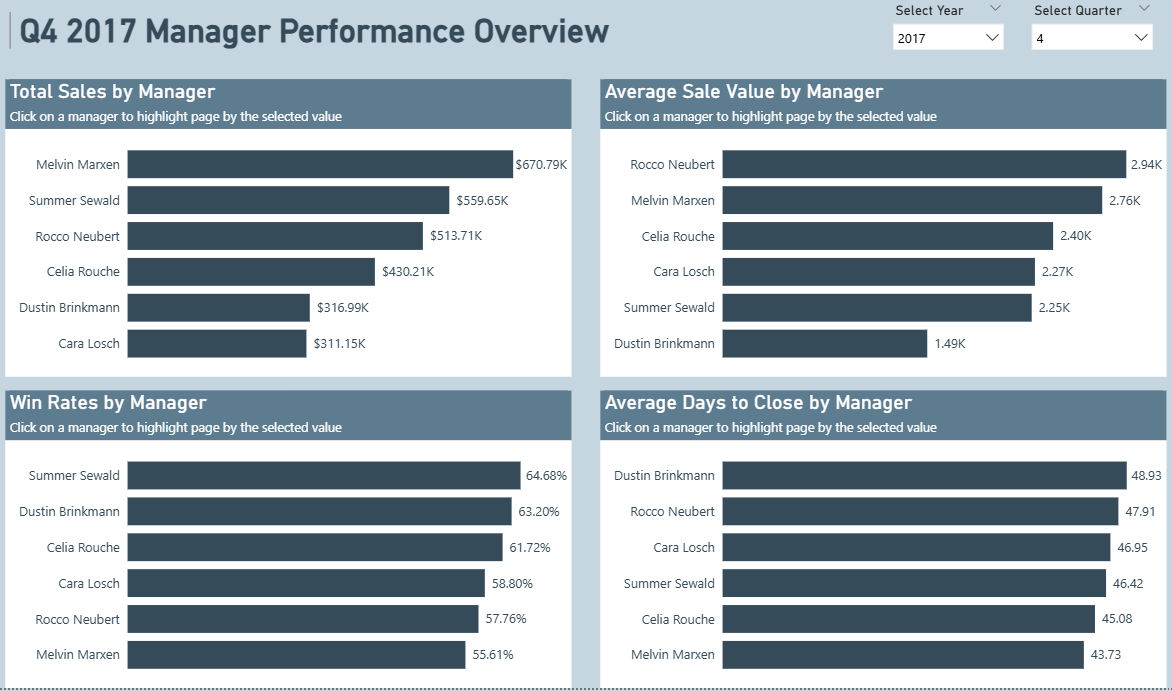

The dashboard page shown, as its layout file describes it:
{"tool":"powerbi","page":{"name":"Manager Performance","canvas":[1350,800],"ordinal":4},"visuals":[{"type":"slicer","fields":{"Values":["calendar.year"]},"box":[1017.1,11.4,147.1,74.3],"z":0},{"type":"slicer","fields":{"Values":["calendar.quarter"]},"box":[1175.1,11.7,158.6,75.7],"z":1000},{"type":"clusteredBarChart","title":"Total Sales by Manager","fields":{"Category":["sales_agents.manager"],"Y":["Sum(sales_pipeline.close_value)"]},"box":[12.9,104.3,647.1,340],"z":2000},{"type":"clusteredBarChart","title":"Average Sale Value by Manager","fields":{"Category":["sales_agents.manager"],"Y":["sales_pipeline.Avg Sale Value"]},"box":[692.9,104.3,647.1,340],"z":3000},{"type":"clusteredBarChart","title":"Win Rates by Manager","fields":{"Category":["sales_agents.manager"],"Y":["sales_pipeline.Win Rate"]},"box":[12.9,460,647.1,340],"z":4000},{"type":"clusteredBarChart","title":"Average Days to Close by Manager","fields":{"Category":["sales_agents.manager"],"Y":["sales_pipeline.Avg Days to Close"]},"box":[692.9,460,647.1,340],"z":5000},{"type":"multiRowCard","fields":{"Values":["sales_pipeline.Title_manager"]},"box":[12.9,22.9,762.9,64.3],"z":5001}]}

Visuals, with their boxes in screenshot pixels (x1, y1, x2, y2), scaled from the page's 1350x800 canvas onto the 1172x691 screenshot:
slicer - calendar.year: select_region(883, 10, 1011, 74)
slicer - calendar.quarter: select_region(1020, 10, 1158, 75)
"Total Sales by Manager" clusteredBarChart: select_region(11, 90, 573, 384)
"Average Sale Value by Manager" clusteredBarChart: select_region(602, 90, 1163, 384)
"Win Rates by Manager" clusteredBarChart: select_region(11, 397, 573, 690)
"Average Days to Close by Manager" clusteredBarChart: select_region(602, 397, 1163, 690)
multiRowCard - sales_pipeline.Title_manager: select_region(11, 20, 674, 75)
